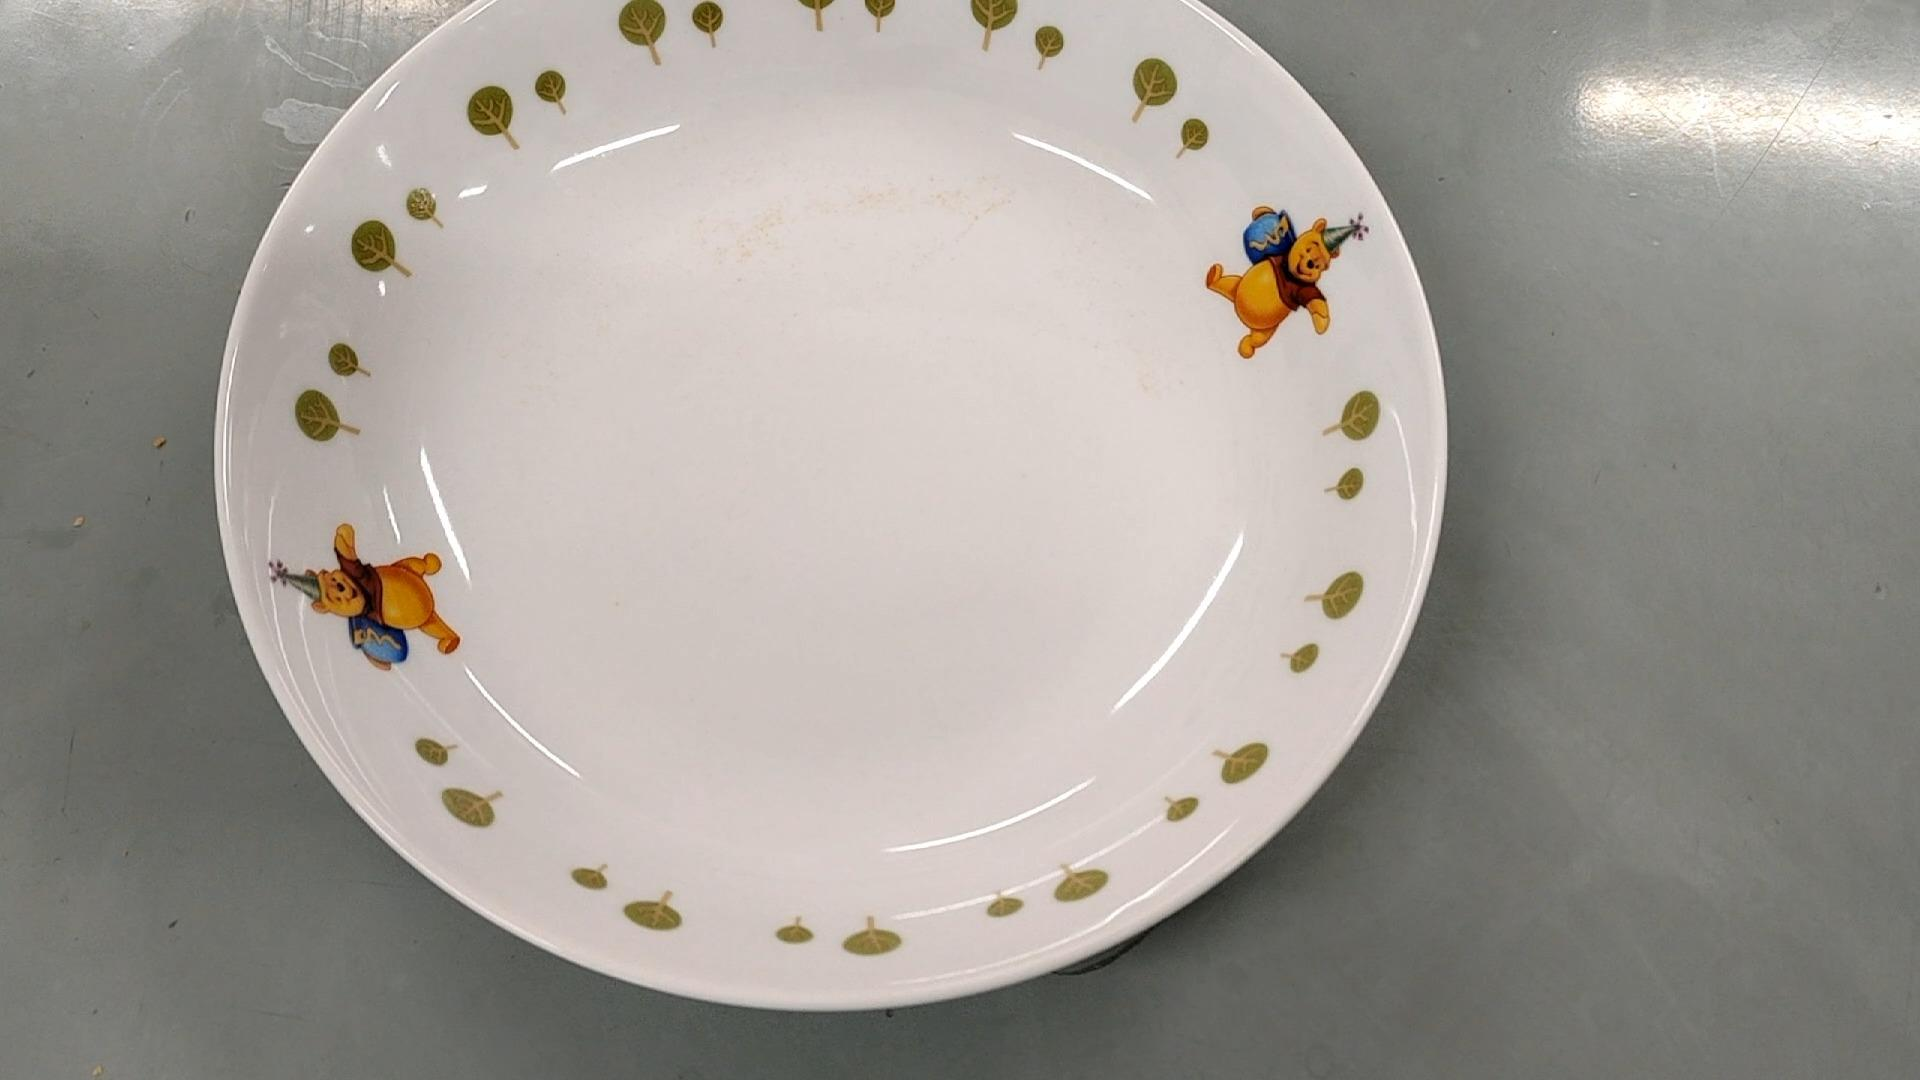plate: (220, 0, 1439, 1010)
